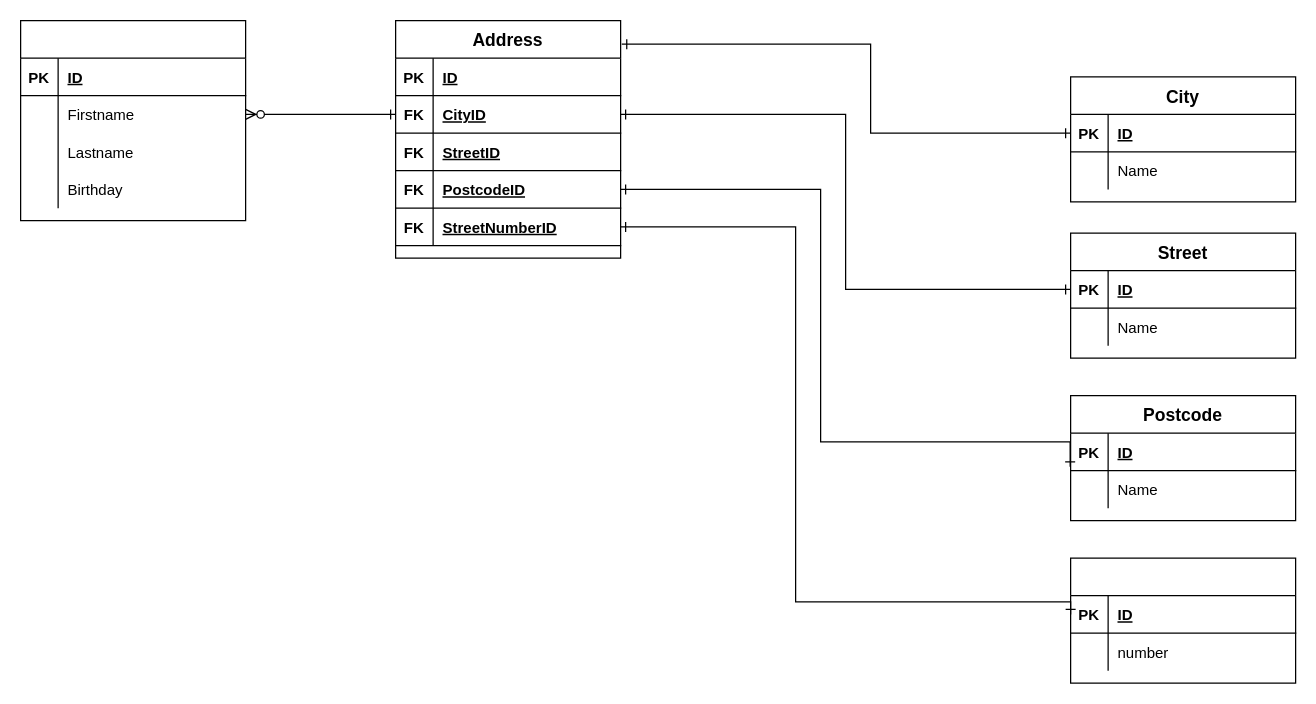
Image size: 1316x704. Some labels were removed from this diagram. The shapes that lost their labels are listed below. From the top down, each one's box as (x1, y1, x2, y2) in pixels, then its label:
(19, 19, 246, 221): User
(1069, 557, 1296, 683): StreetNumber
